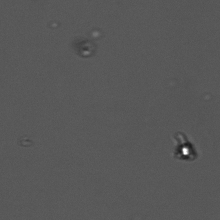Dead Cell: (73, 39, 98, 57)
Living Cell: (170, 136, 199, 162)
